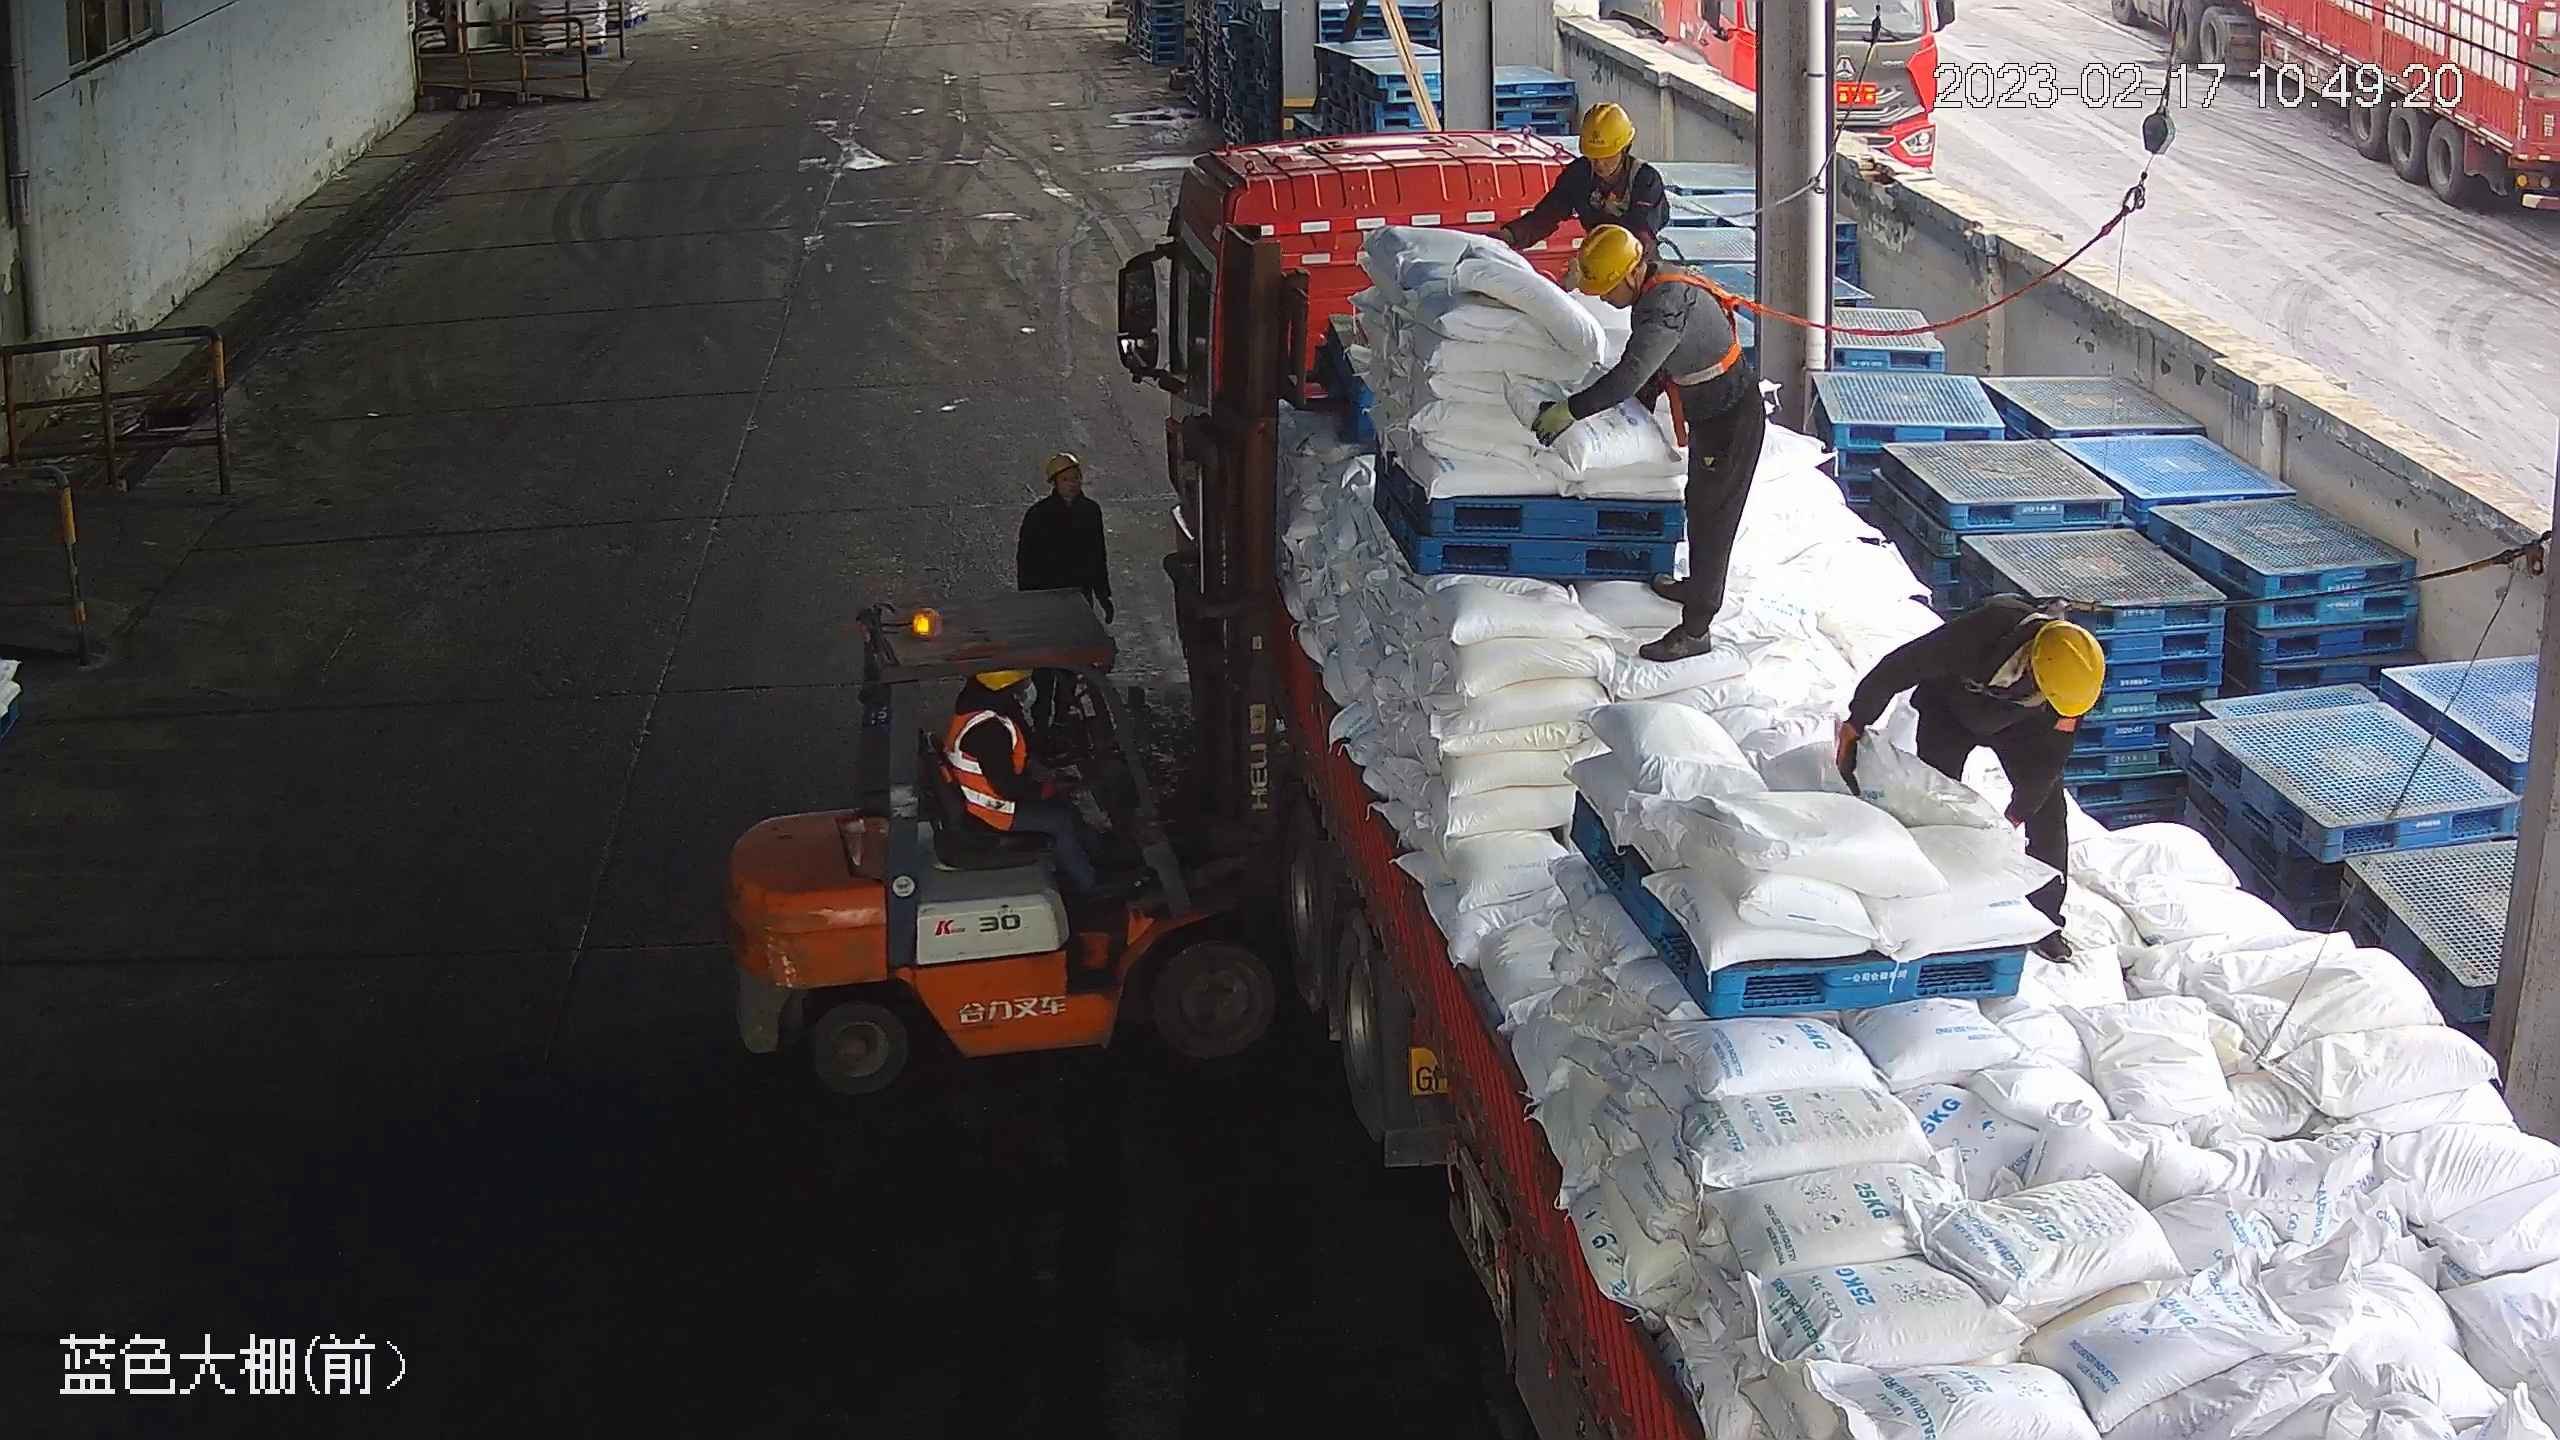belt: (1640, 262, 1761, 393), (1580, 151, 1650, 215)
head: (1960, 604, 2108, 734), (1576, 222, 1724, 336), (1551, 99, 1667, 204), (943, 672, 1035, 749), (1022, 451, 1104, 531)
helmet: (2026, 616, 2106, 722), (1571, 221, 1648, 297), (1576, 101, 1634, 158), (1044, 452, 1085, 483)
people: (1532, 221, 1770, 667), (1834, 594, 2111, 967), (935, 667, 1128, 899), (1020, 444, 1114, 628)
truck: (1125, 120, 2560, 1439)
